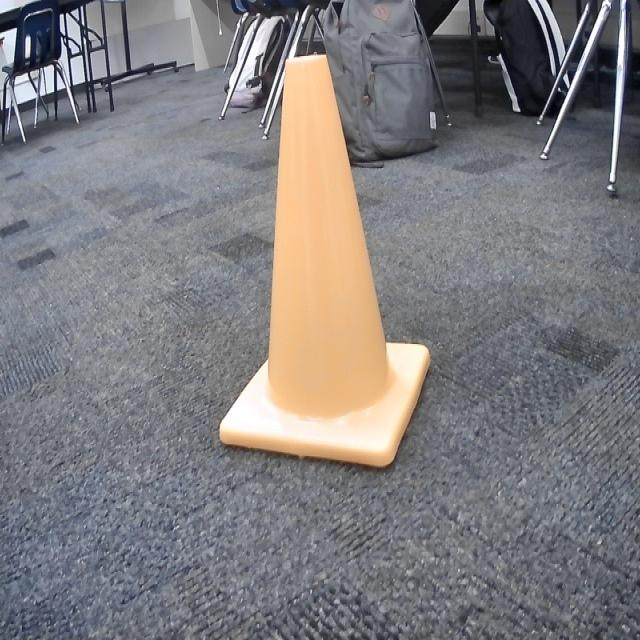cone: (223, 44, 432, 477)
